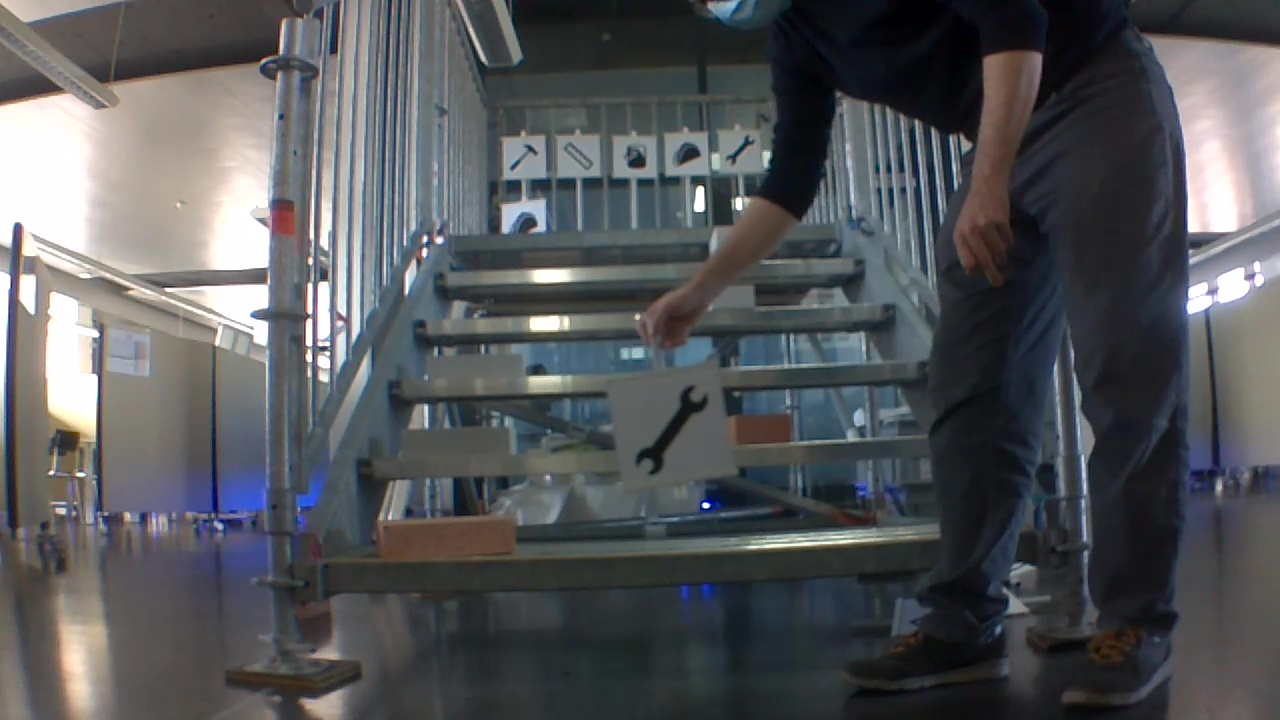brick: (379, 517, 513, 562), (403, 429, 517, 459), (427, 353, 526, 380), (728, 415, 793, 444), (714, 286, 751, 308)
bucket: (617, 139, 650, 171)
hammer: (502, 138, 541, 173)
ruler: (559, 138, 593, 171)
taco: (668, 135, 704, 168), (505, 209, 538, 236)
wrench: (628, 378, 716, 476), (719, 130, 759, 169)
